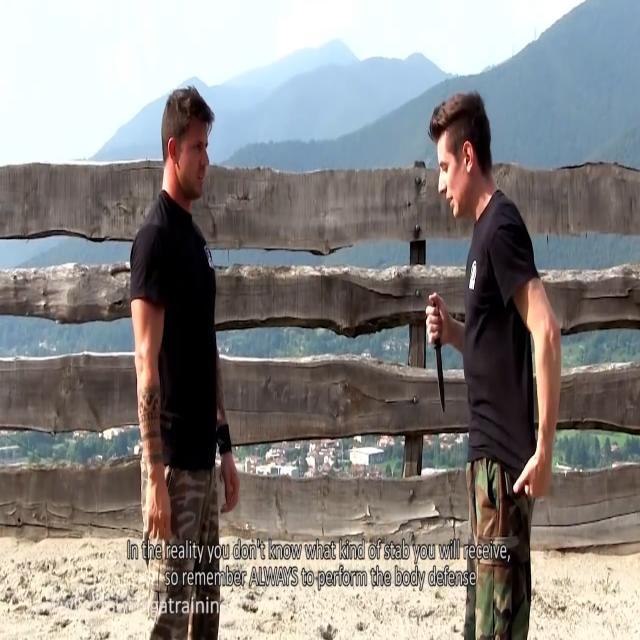knife: (435, 341, 453, 421)
